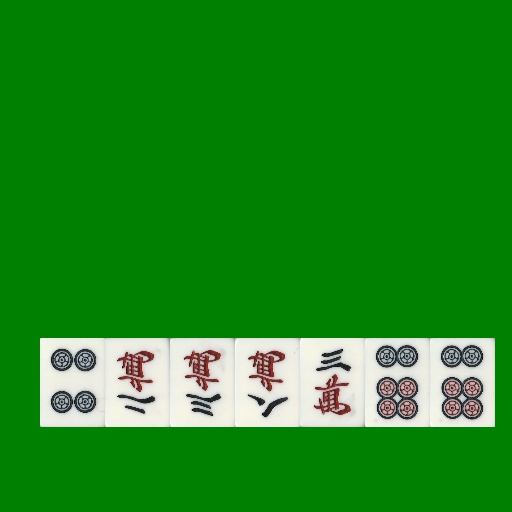2m: (105, 338, 170, 427)
3m: (170, 338, 235, 427), (300, 338, 365, 427)
4p: (40, 338, 105, 427)
6p: (365, 338, 430, 427), (430, 338, 495, 427)
8m: (235, 338, 300, 427)
